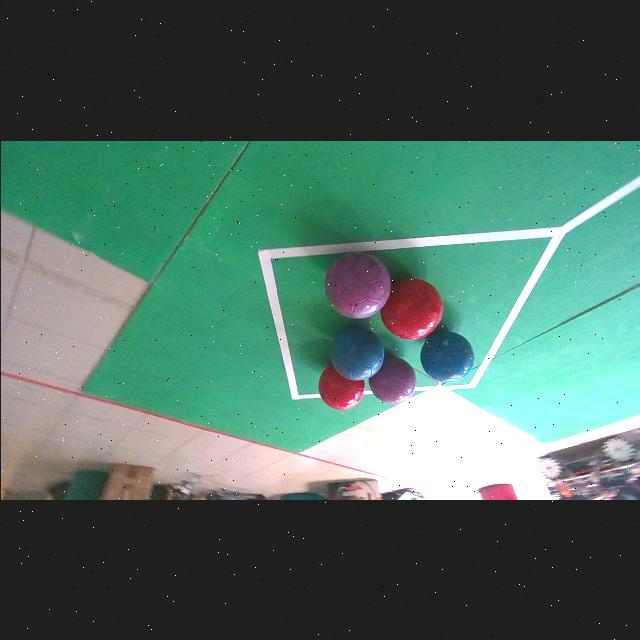B: (330, 326, 384, 381), (419, 331, 473, 383)
P: (323, 251, 390, 318), (368, 355, 415, 404)
R: (380, 278, 441, 340), (317, 365, 364, 411)
